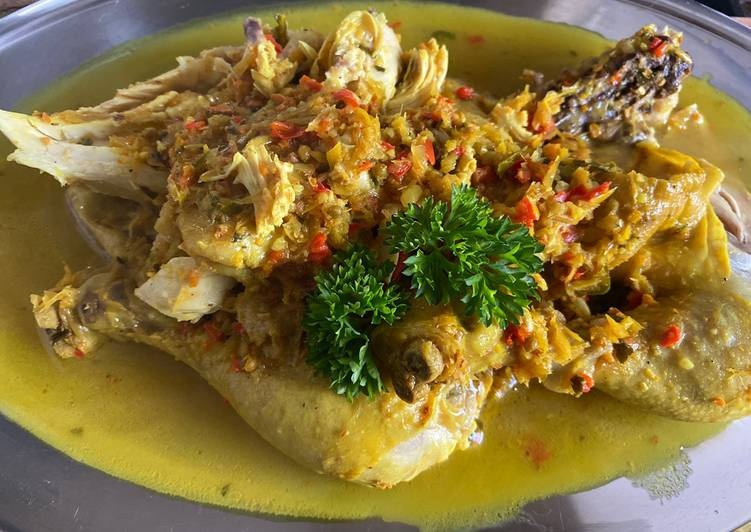ayam_betutu: (4, 9, 751, 485)
